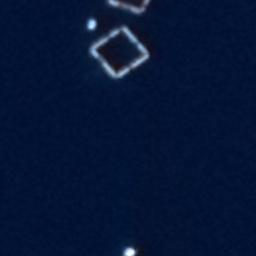square_solid: (84, 23, 153, 82)
